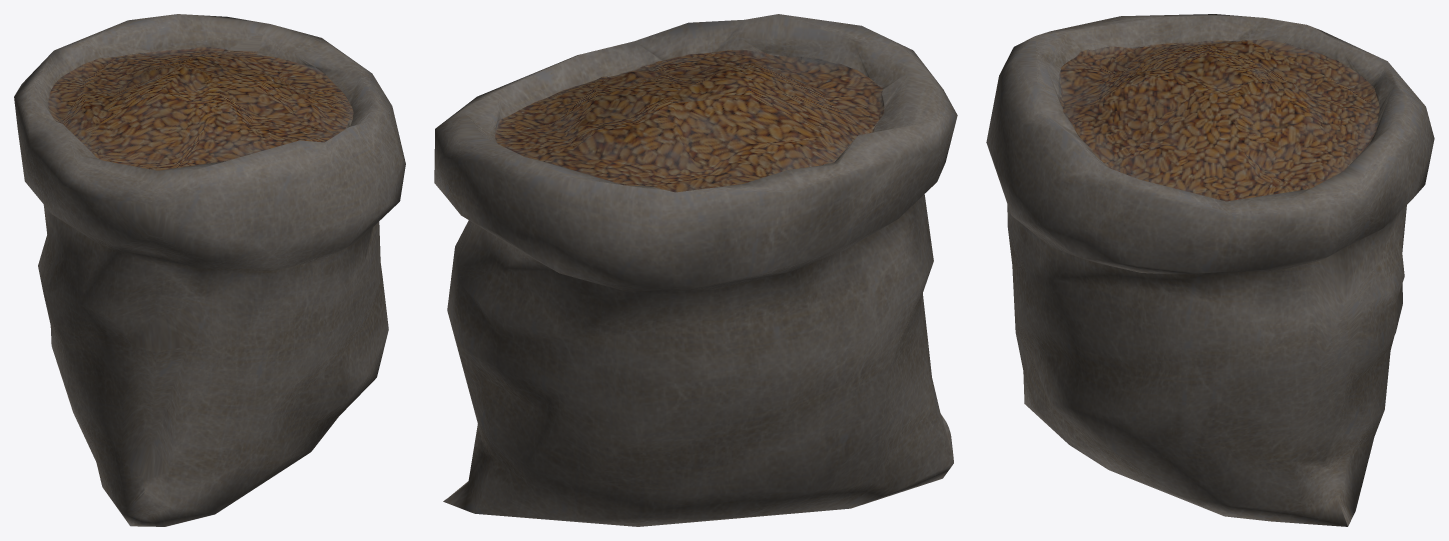
File: SM_Sack_01.fbx
3 renders of one model, left to right at view 1: azimuth 30°, elevation 25°; view 2: azimuth 150°, elevation 25°; view 3: azimuth 270°, elevation 25°, orthographic. The views are drawn at different scales.
Visible parts, largest first — view 1: SM_Sack_01_LOD0; view 2: SM_Sack_01_LOD0; view 3: SM_Sack_01_LOD0.
Part boxes in pixels (box(x1,y1,x2,y2)): SM_Sack_01_LOD0: box(14, 14, 405, 526); SM_Sack_01_LOD0: box(434, 14, 957, 526); SM_Sack_01_LOD0: box(986, 14, 1434, 526).
Bounding box in the file's own units: 42.8 × 44.04 × 41.01.
